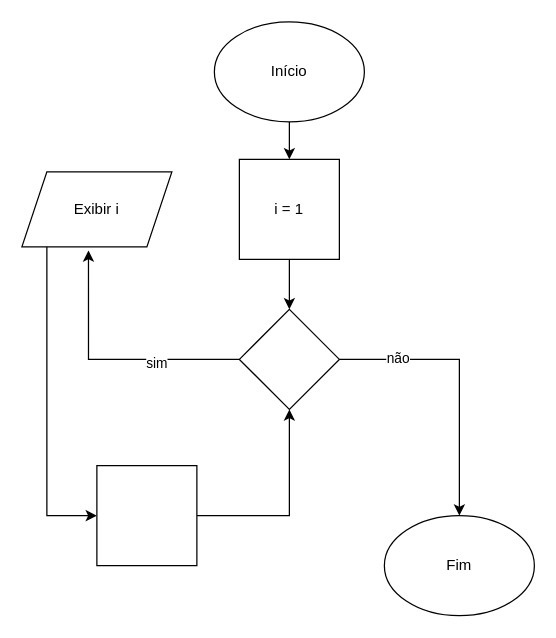
The diagram is 556 pixels wide and 638 high, and some of its shapes have lost their labels. Each missing label, with the centre of its shape:
i <= 100?: point 288,358
i = i + 1: point 146,515
